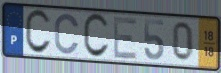0: (171, 21, 196, 64)
5: (143, 18, 165, 62)
C: (24, 8, 53, 57), (82, 12, 111, 61), (53, 12, 81, 56)
E: (112, 16, 138, 62)
